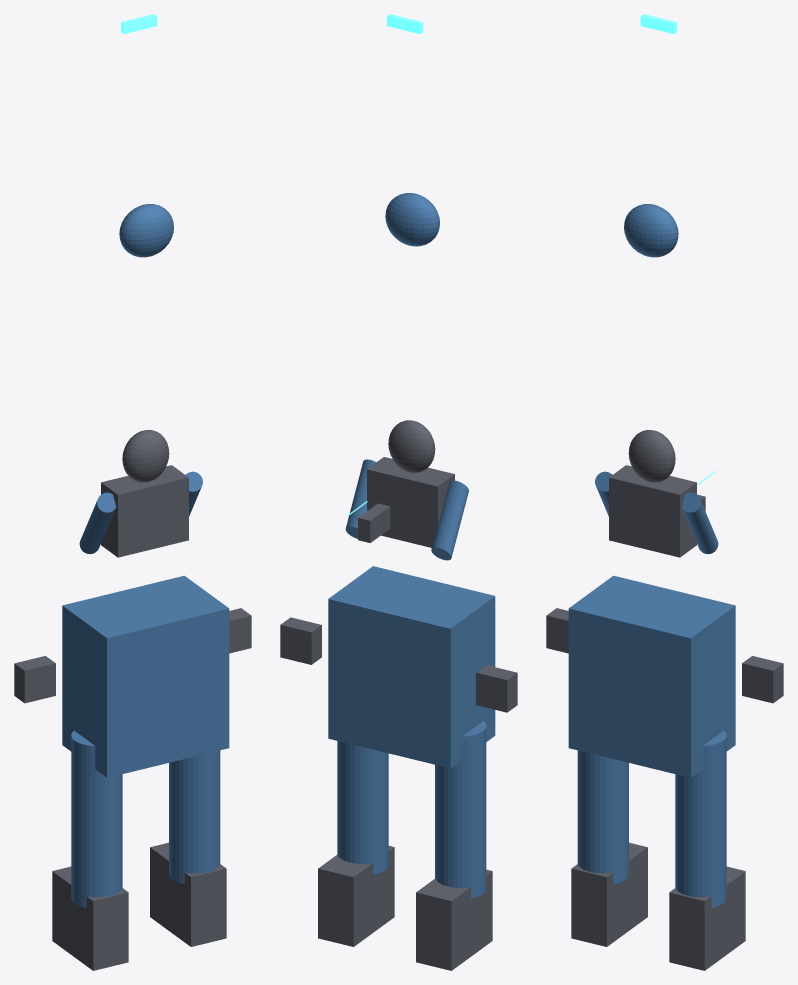
The model's file is AL_SentinelRifleman_LOD2.glb.
The picture shows the model from 3 angles, left to right: view 1: azimuth 30°, elevation 25°; view 2: azimuth 150°, elevation 25°; view 3: azimuth 330°, elevation 25°; orthographic projection.
Parts seen in each view (by area): view 1: Cube.004, Cylinder, Cylinder.001, Cube.005, Cube, Cube.001, Sphere.001, Sphere, Cube.002, Cylinder.002, Cube.003; view 2: Cube.004, Cylinder, Cylinder.001, Cube, Cube.001, Cube.005, Sphere.001, Sphere, Cube.002, Cube.003, Cylinder.002, Cube.007 (+1 smaller); view 3: Cube.004, Cylinder.001, Cylinder, Cube.005, Cube.001, Cube, Sphere.001, Sphere, Cube.003, Cylinder.003, Cube.002.
Part boxes in pixels (<box>): Cube.004: <box>62,575,229,777</box>; Cylinder: <box>71,730,122,907</box>; Cylinder.001: <box>169,750,220,883</box>; Cube.005: <box>101,465,188,557</box>; Cube: <box>52,866,128,970</box>; Cube.001: <box>150,842,226,946</box>; Sphere.001: <box>119,204,173,257</box>; Sphere: <box>122,430,169,482</box>; Cube.002: <box>14,656,55,703</box>; Cylinder.002: <box>79,492,116,554</box>; Cube.003: <box>229,608,251,653</box>; Cube.004: <box>328,566,495,768</box>; Cylinder: <box>435,721,486,898</box>; Cylinder.001: <box>337,741,388,874</box>; Cube: <box>416,869,492,970</box>; Cube.001: <box>318,846,394,946</box>; Cube.005: <box>367,457,454,547</box>; Sphere.001: <box>385,193,439,246</box>; Sphere: <box>388,420,435,472</box>; Cube.002: <box>476,665,517,712</box>; Cube.003: <box>280,617,321,664</box>; Cylinder.002: <box>431,480,468,560</box>; Cube.007: <box>358,503,390,542</box>; Cube.004: <box>568,575,735,777</box>; Cylinder.001: <box>675,730,726,907</box>; Cylinder: <box>577,750,628,883</box>; Cube.005: <box>609,465,696,557</box>; Cube.001: <box>669,866,745,970</box>; Cube: <box>571,842,647,946</box>; Sphere.001: <box>624,204,678,257</box>; Sphere: <box>628,430,675,482</box>; Cube.003: <box>742,656,783,703</box>; Cylinder.003: <box>681,492,718,554</box>; Cube.002: <box>546,608,568,653</box>.
Size of what is drawn, in the model's own units: 1.02 by 3.96 by 0.5127.
